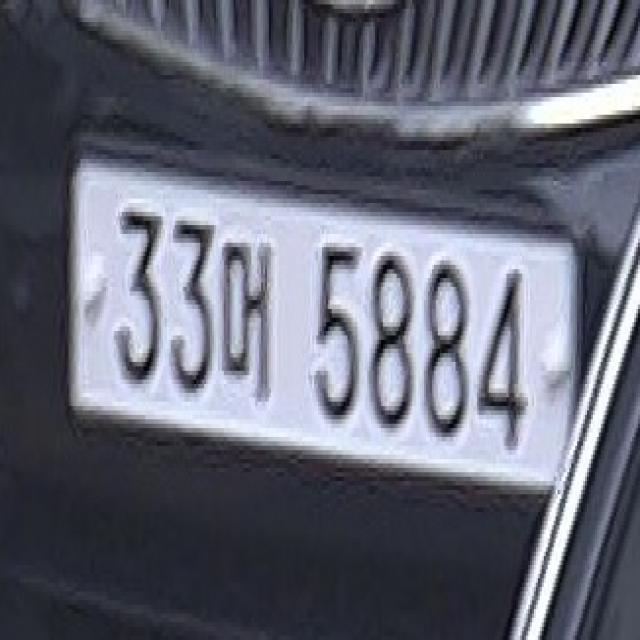3: (114, 194, 167, 388), (169, 212, 216, 397)
4: (473, 260, 528, 454)
5: (310, 238, 363, 420)
8: (422, 247, 469, 437), (369, 252, 416, 428)
license_plate: (67, 142, 579, 494)
meo: (218, 234, 273, 406)
